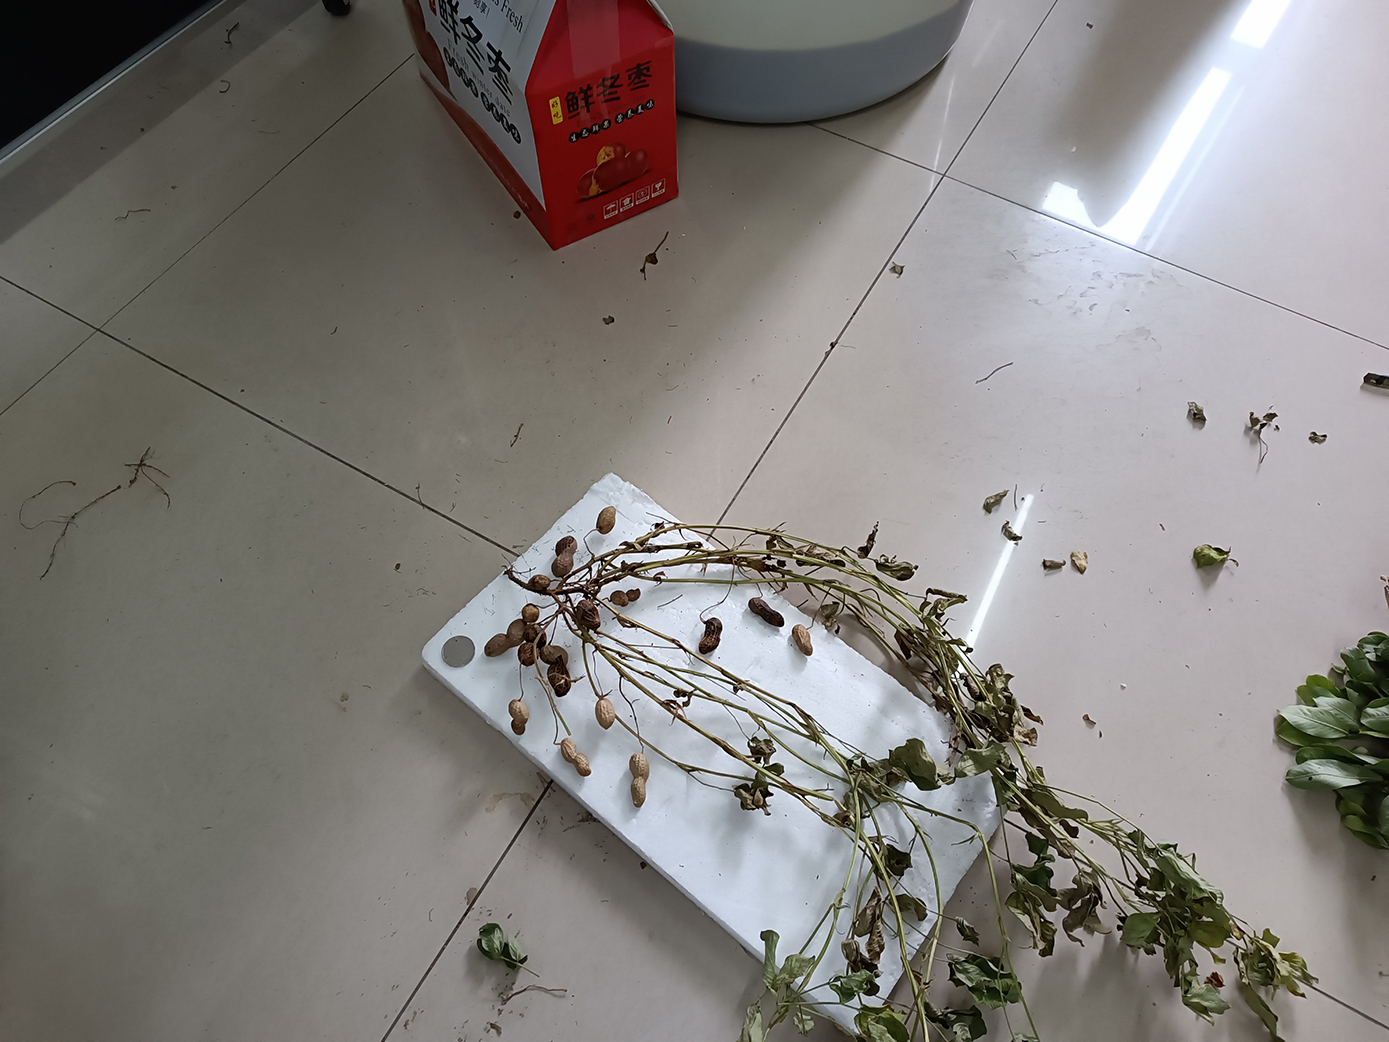h: (484, 620, 526, 658), (560, 737, 591, 776), (629, 752, 650, 808), (508, 699, 530, 736), (595, 503, 617, 535), (791, 624, 813, 656), (595, 697, 615, 730), (521, 603, 540, 623)
l: (540, 645, 572, 698), (518, 624, 547, 667), (551, 535, 578, 578), (748, 597, 785, 627), (698, 616, 724, 655), (576, 599, 601, 630), (610, 588, 641, 607), (526, 574, 551, 591)
